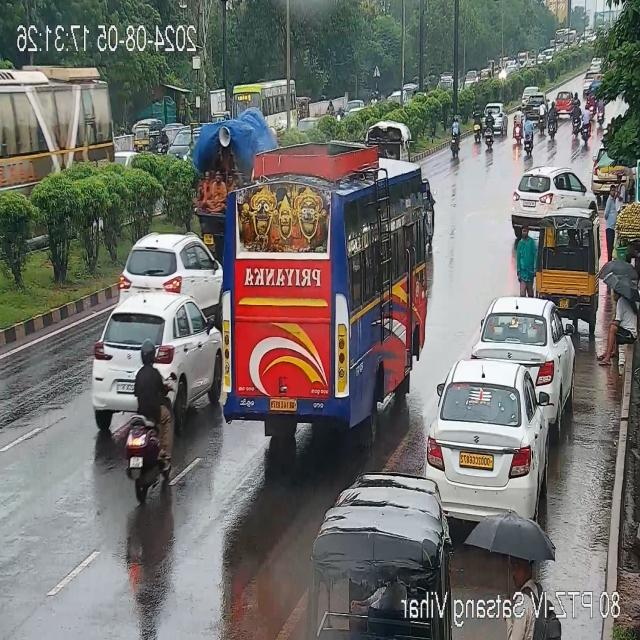2-wheelers: (130, 329, 174, 506), (450, 109, 463, 157), (471, 101, 483, 146), (581, 106, 592, 148), (548, 97, 558, 141), (486, 109, 496, 152), (596, 87, 606, 129), (571, 101, 581, 138), (514, 104, 523, 143), (525, 116, 533, 156), (538, 98, 546, 137), (587, 90, 595, 116), (569, 91, 579, 111)
auto: (302, 476, 442, 584), (534, 205, 596, 316)
bus: (228, 136, 438, 456), (0, 65, 111, 188), (228, 76, 300, 120)
car: (442, 347, 554, 537), (86, 296, 220, 422), (495, 286, 575, 400), (114, 228, 220, 296), (512, 166, 586, 223), (521, 87, 549, 123), (484, 101, 508, 134), (494, 100, 508, 130), (556, 88, 568, 114), (525, 85, 541, 102), (529, 90, 543, 108)
pedestrian: (606, 274, 640, 362), (603, 176, 619, 260), (520, 224, 536, 300)
